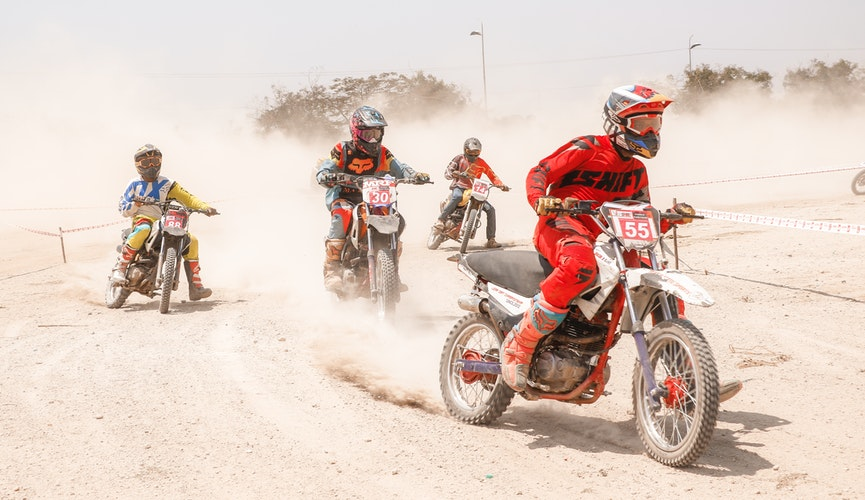helmet: (596, 87, 666, 165), (333, 107, 394, 152), (125, 142, 177, 175), (458, 138, 484, 163)
